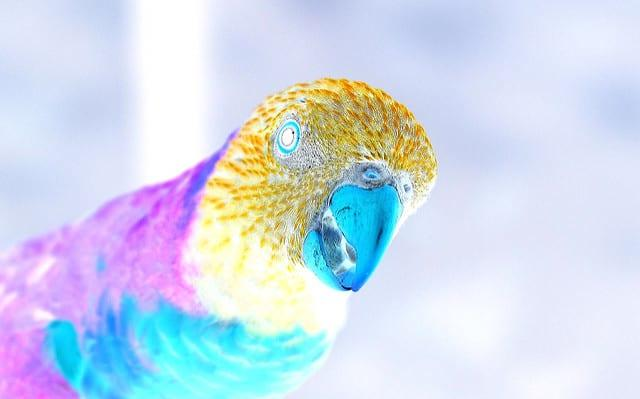gaga: (288, 159, 411, 300)
goz: (262, 116, 308, 157)
